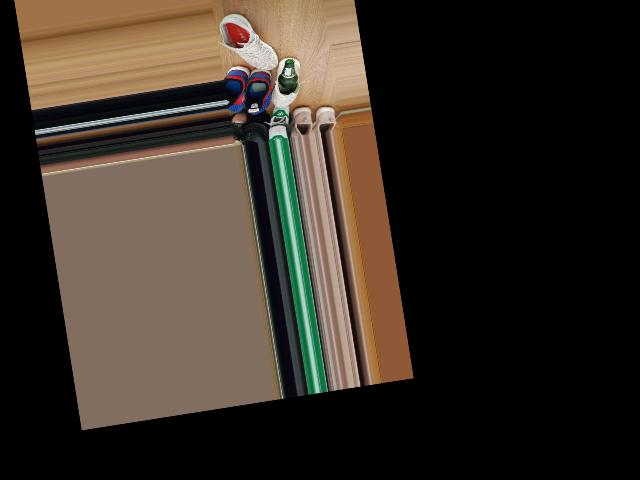beer: (274, 57, 300, 95)
